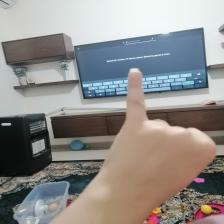five: (110, 66, 218, 206)
